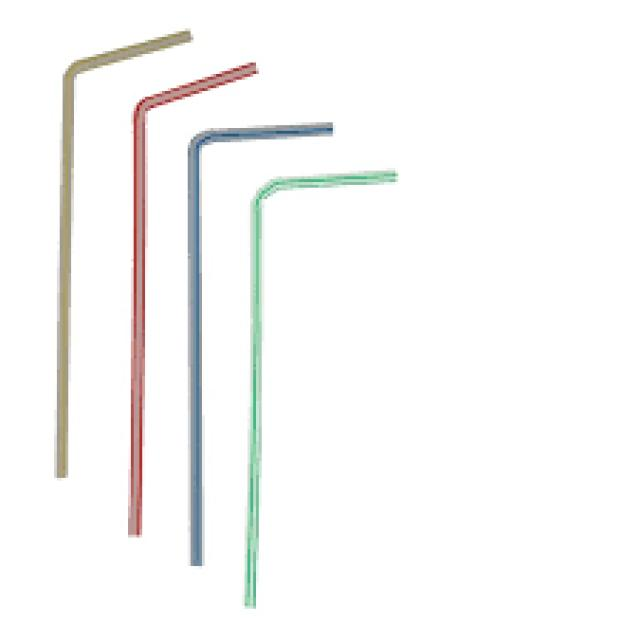straw: (248, 171, 394, 607), (189, 122, 331, 566), (134, 62, 258, 536), (59, 31, 189, 477)
